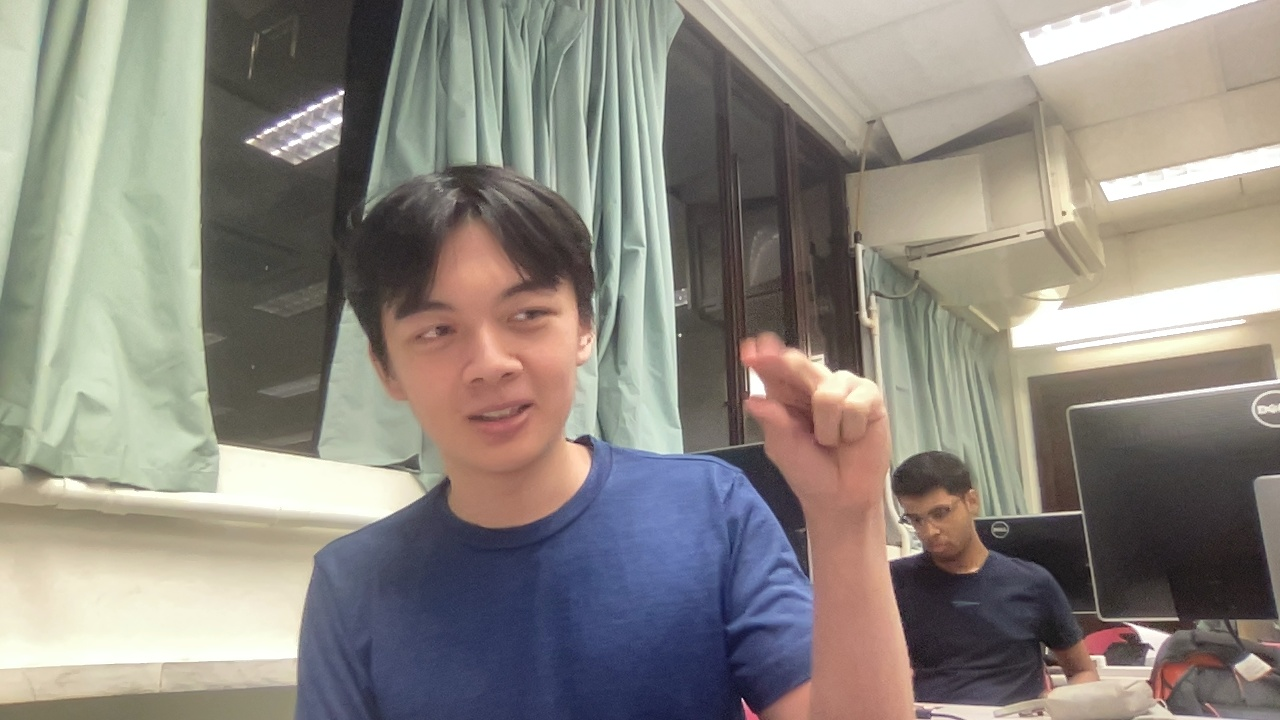no: (698, 313, 951, 551)
